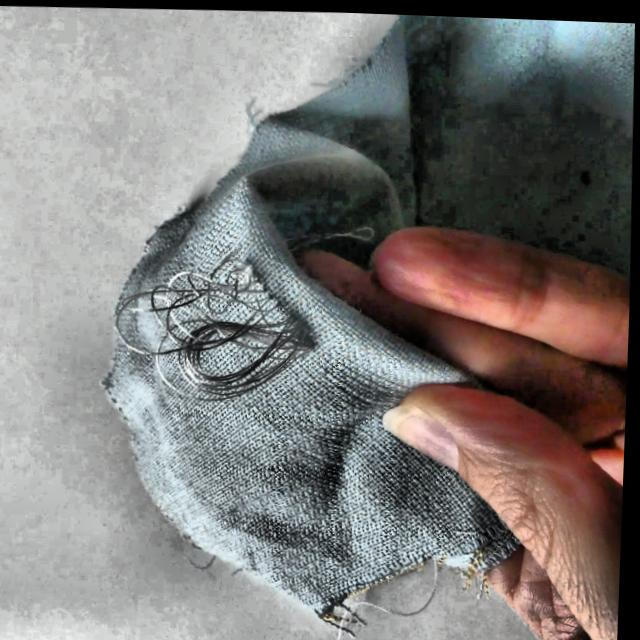Stitch: (104, 225, 358, 419)
